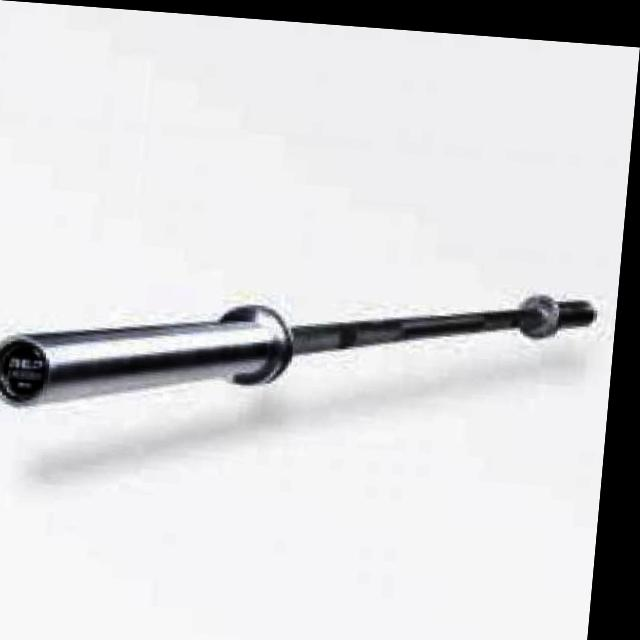barbell: (1, 265, 306, 434)
